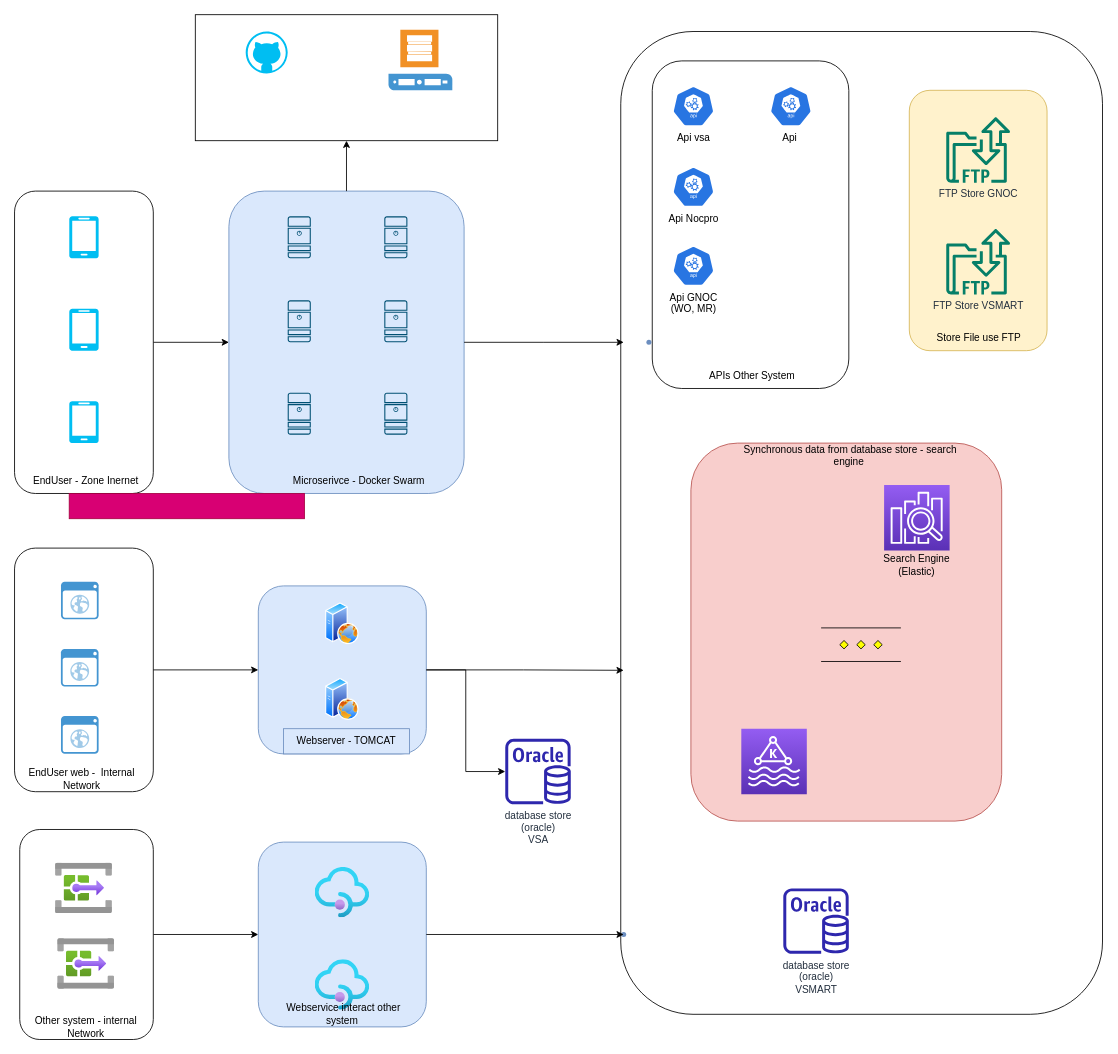
Image size: 1118x1054. Some labels were removed from this diagram. Each missing label, with the box of its shape:
Apache Kafka stream: (740, 728, 807, 794)
Apache NiFi: (820, 627, 901, 662)
Git (Storage configuration System): (245, 31, 287, 73)
Need 1 IP public internet for users to connect to the system: (68, 493, 304, 519)
Nexus Repository (Storage image deploy): (388, 29, 452, 90)
